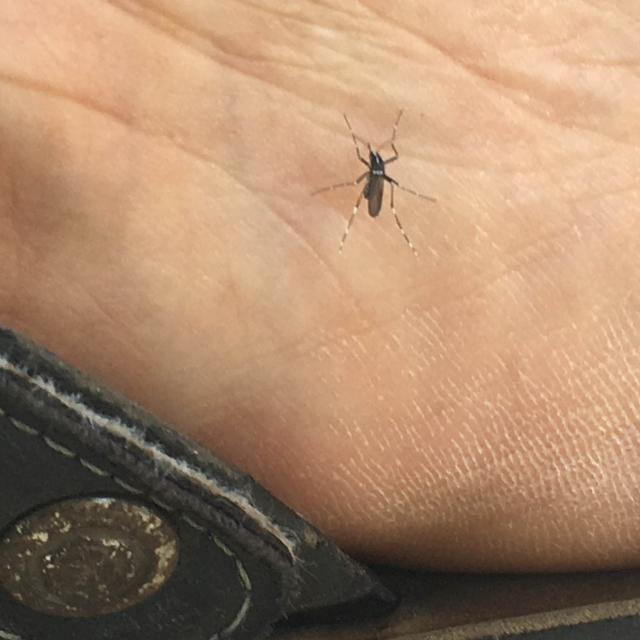albopictus: (314, 98, 440, 259)
